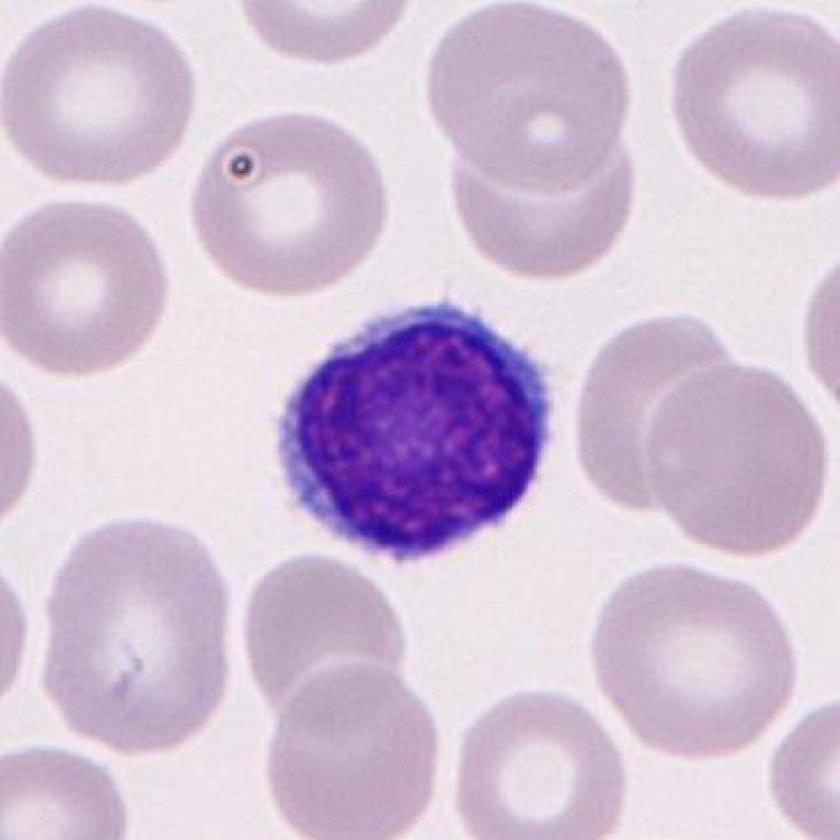lymphocyte: (263, 285, 575, 577)
